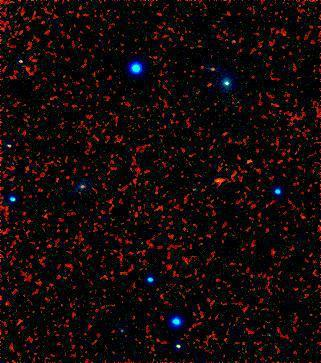star: (206, 167, 236, 197)
